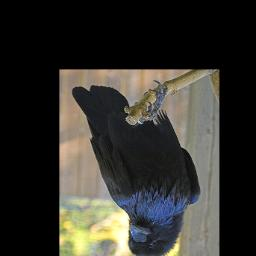Crow: (72, 80, 201, 256)
